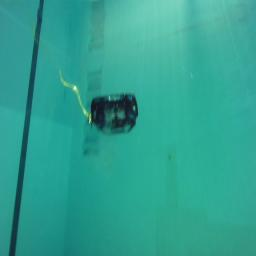Side: (88, 92, 138, 135)
